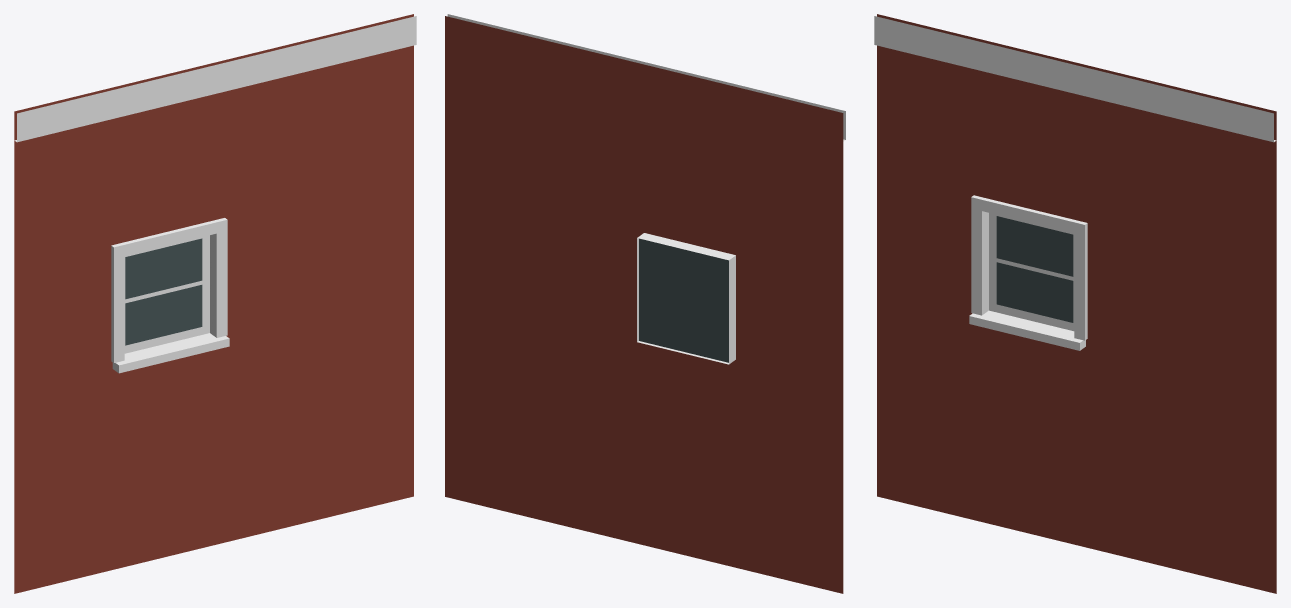
File: top-w2.fbx
3 views of the same model, side by side, from view 1: azimuth 30°, elevation 25°; view 2: azimuth 150°, elevation 25°; view 3: azimuth 330°, elevation 25° (orthographic).
Parts seen in each view (by area): view 1: a2015/600/top-w2; view 2: a2015/600/top-w2; view 3: a2015/600/top-w2.
Part boxes in pixels (<box>): a2015/600/top-w2: <box>14,14,416,593</box>; a2015/600/top-w2: <box>445,14,845,593</box>; a2015/600/top-w2: <box>874,14,1276,593</box>.
Bounding box in the file's own units: 2.6 × 3 × 0.15.
